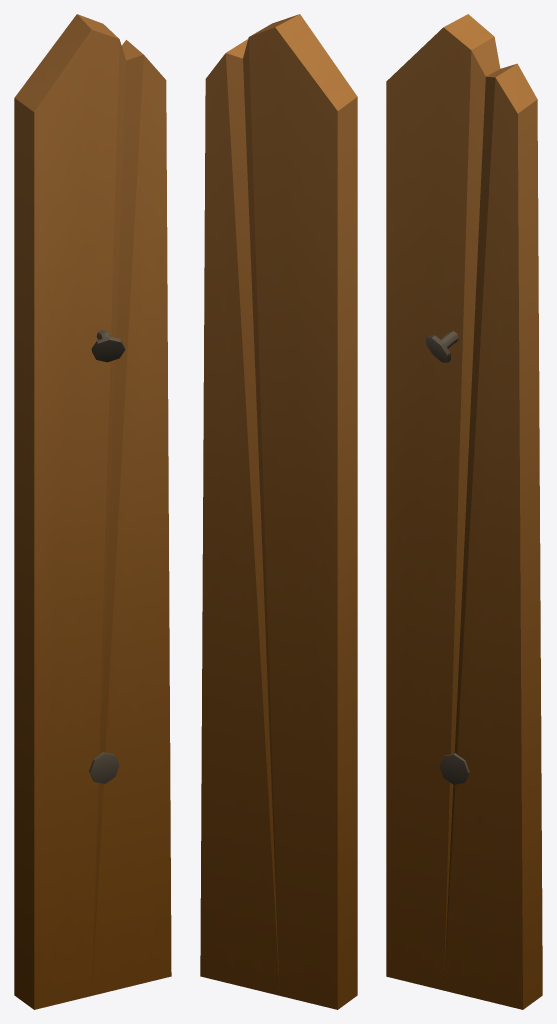
The model's file is Fence_Bit_E.fbx.
3 renders of one model, left to right at view 1: azimuth 30°, elevation 25°; view 2: azimuth 150°, elevation 25°; view 3: azimuth 330°, elevation 25°, orthographic.
Parts seen in each view (by area): view 1: Fence_Bit_E; view 2: Fence_Bit_E; view 3: Fence_Bit_E.
Part boxes in pixels (<box>): Fence_Bit_E: <box>14,14,171,1009</box>; Fence_Bit_E: <box>200,14,357,1009</box>; Fence_Bit_E: <box>386,14,542,1009</box>.
Size of the model in its own units: 16 by 108 by 7.25.
